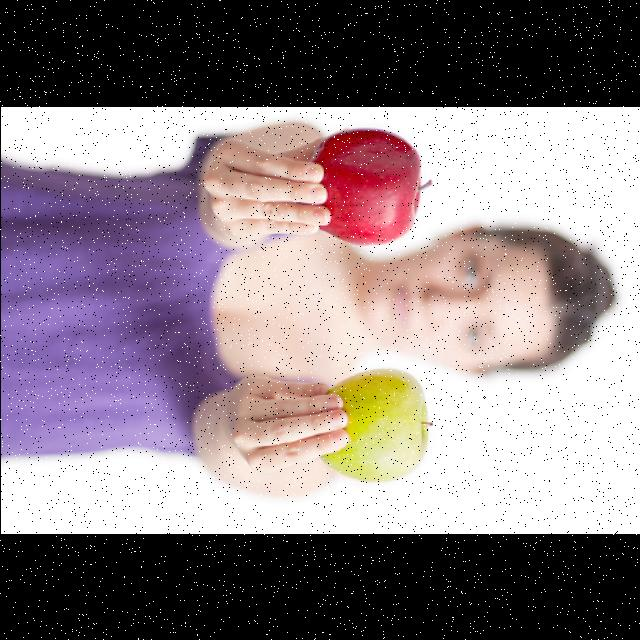Apel Segar: (291, 337, 454, 507), (294, 114, 432, 258)
